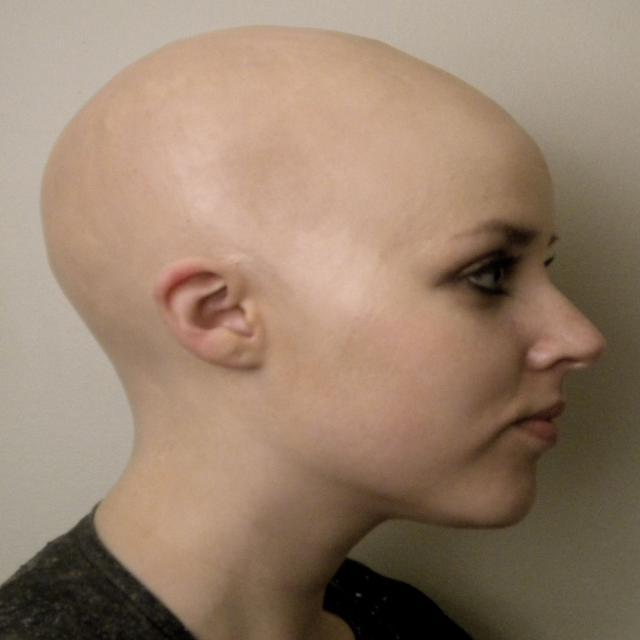Healthy: (99, 379, 388, 639)
